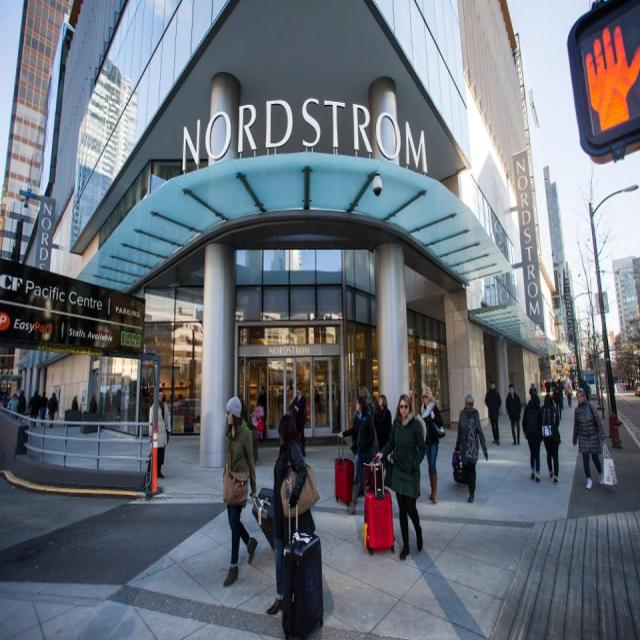body: (265, 412, 321, 622), (375, 392, 428, 562), (221, 394, 258, 589), (337, 394, 379, 517), (99, 379, 196, 424), (451, 393, 489, 504), (571, 385, 606, 493), (418, 386, 446, 505), (349, 384, 376, 499), (148, 387, 173, 479), (521, 390, 543, 484), (540, 393, 561, 485), (312, 381, 342, 428), (484, 378, 502, 446), (373, 393, 393, 452), (289, 385, 306, 453), (504, 382, 522, 446), (274, 383, 296, 426), (250, 400, 265, 447), (429, 372, 446, 412), (27, 390, 43, 431), (610, 373, 636, 397), (0, 382, 20, 412), (256, 386, 267, 440), (47, 391, 59, 427), (38, 390, 48, 428), (553, 381, 562, 421), (564, 376, 574, 409), (17, 389, 26, 425), (414, 471, 424, 501), (556, 376, 564, 412), (70, 393, 78, 421), (13, 393, 20, 422), (89, 393, 98, 414), (528, 382, 537, 401), (571, 374, 580, 391), (544, 378, 551, 398), (550, 378, 556, 396), (541, 379, 546, 393)
